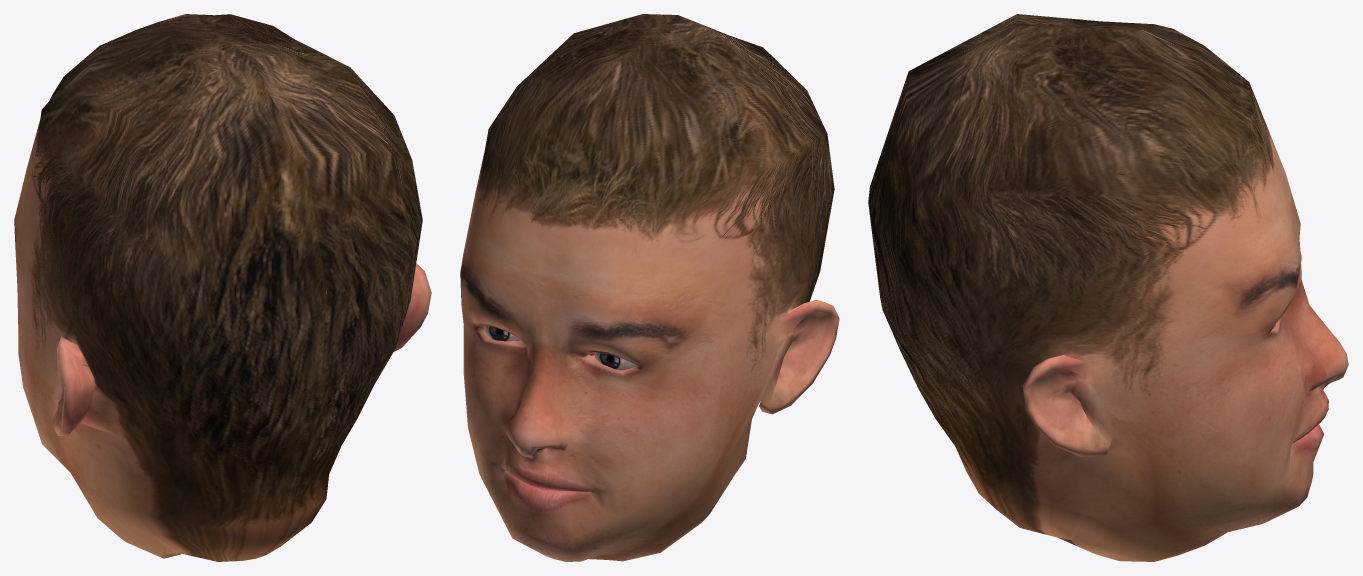
Rendered from Head.dae.
The picture shows the model from 3 angles, left to right: view 1: azimuth 30°, elevation 25°; view 2: azimuth 150°, elevation 25°; view 3: azimuth 270°, elevation 25°; orthographic projection. The views are drawn at different scales.
Parts seen in each view (by area): view 1: Head; view 2: Head; view 3: Head.
Part boxes in pixels (x1,y1,x2,y2): Head: (14,14,431,561); Head: (460,14,839,561); Head: (868,14,1348,561).
Size of the model in its own units: 0.1828 by 0.2123 by 0.2555.
Materials: 1 (1 with a texture image).
